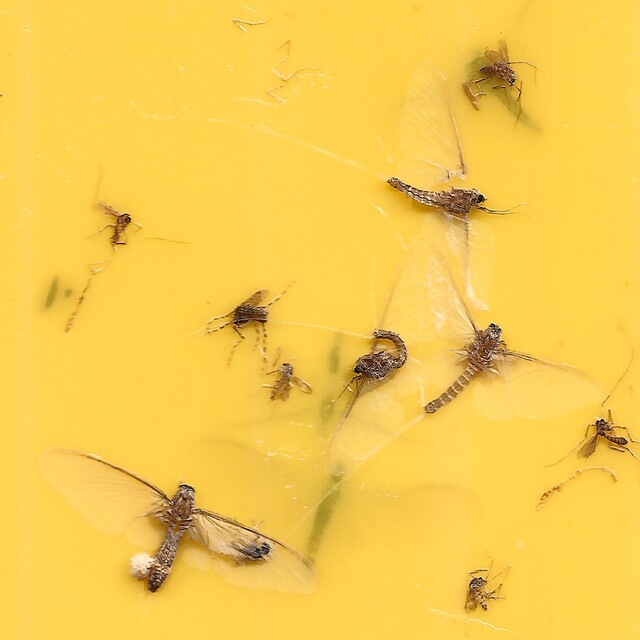Ephemeroptera: (36, 443, 320, 601), (387, 60, 523, 315), (417, 246, 604, 417), (326, 245, 425, 477)
Nematocera: (220, 287, 282, 364), (470, 39, 518, 91), (261, 356, 313, 404)
